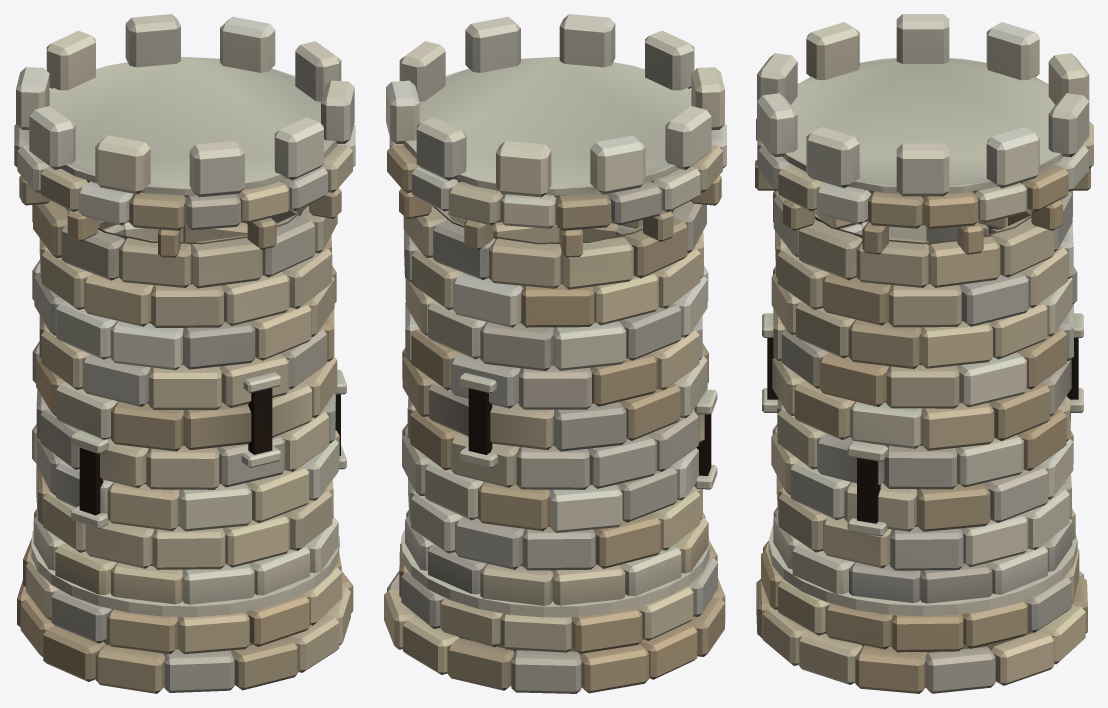
The model's file is burc_open.glb.
3 views of the same model, side by side, from view 1: azimuth 30°, elevation 25°; view 2: azimuth 150°, elevation 25°; view 3: azimuth 270°, elevation 25° (orthographic).
Visible parts, largest first — view 1: burc_open; view 2: burc_open; view 3: burc_open.
Boxes of the visible parts, x1,y1,x2,y2 form: burc_open: (14,14,355,693); burc_open: (384,14,726,693); burc_open: (755,14,1093,693).
Bounding box in the file's own units: 0.5781 × 1.02 × 0.5748.
